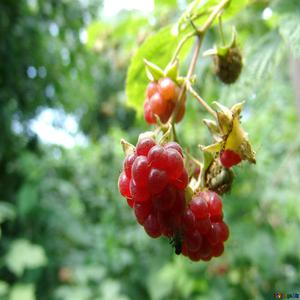raspb: (107, 64, 262, 260)
